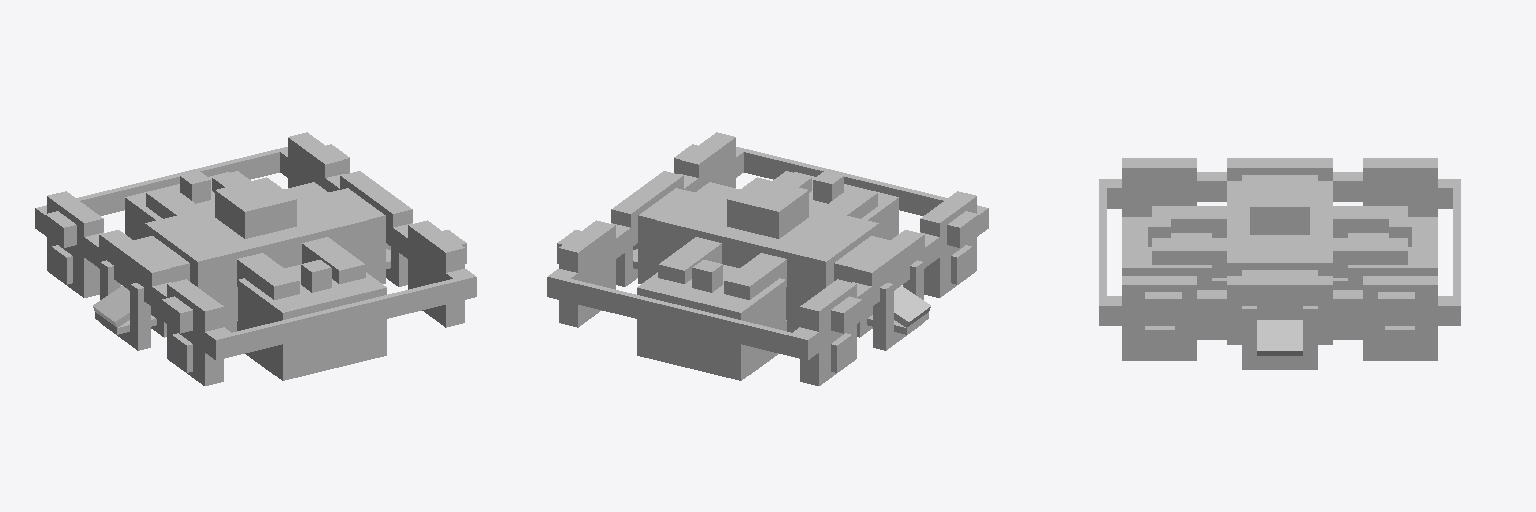
The model's file is frame.obj.
3 renders of one model, left to right at view 1: azimuth 30°, elevation 25°; view 2: azimuth 150°, elevation 25°; view 3: azimuth 270°, elevation 25°, orthographic.
Parts seen in each view (by area): view 1: cube_1, cube_11, cube_43, cube_0, cube_40, cube_28, cube_24, cube_21, cube_35, cube_22, cube_15, cube_14 (+17 smaller); view 2: cube_1, cube_3, cube_24, cube_0, cube_35, cube_21, cube_43, cube_28, cube_40, cube_22, cube_15, cube_8 (+17 smaller); view 3: cube_1, cube_35, cube_40, cube_21, cube_28, cube_32, cube_0, cube_3, cube_11, cube_36, cube_5, cube_12 (+16 smaller).
Boxes of the visible parts, x1=… form: cube_1: x1=145, y1=182, x2=366, y2=332; cube_11: x1=238, y1=265, x2=386, y2=380; cube_43: x1=233, y1=279, x2=456, y2=355; cube_0: x1=215, y1=177, x2=296, y2=238; cube_40: x1=408, y1=220, x2=464, y2=327; cube_28: x1=167, y1=279, x2=223, y2=385; cube_24: x1=76, y1=149, x2=279, y2=215; cube_21: x1=47, y1=191, x2=103, y2=297; cube_35: x1=288, y1=132, x2=344, y2=188; cube_22: x1=99, y1=230, x2=171, y2=285; cube_15: x1=329, y1=188, x2=385, y2=283; cube_14: x1=237, y1=253, x2=299, y2=299; cube_1: x1=657, y1=182, x2=878, y2=332; cube_3: x1=637, y1=265, x2=785, y2=380; cube_24: x1=567, y1=279, x2=790, y2=355; cube_0: x1=727, y1=177, x2=808, y2=238; cube_35: x1=559, y1=220, x2=615, y2=327; cube_21: x1=800, y1=279, x2=856, y2=385; cube_43: x1=744, y1=149, x2=947, y2=215; cube_28: x1=920, y1=191, x2=976, y2=297; cube_40: x1=679, y1=132, x2=735, y2=188; cube_22: x1=852, y1=230, x2=924, y2=285; cube_15: x1=638, y1=188, x2=694, y2=283; cube_8: x1=724, y1=253, x2=786, y2=299; cube_1: x1=1227, y1=181, x2=1332, y2=344; cube_35: x1=1363, y1=276, x2=1437, y2=360; cube_40: x1=1122, y1=276, x2=1196, y2=360; cube_21: x1=1363, y1=158, x2=1437, y2=216; cube_28: x1=1122, y1=158, x2=1196, y2=216; cube_32: x1=1197, y1=290, x2=1362, y2=319; cube_0: x1=1250, y1=182, x2=1309, y2=234; cube_3: x1=1348, y1=217, x2=1437, y2=335; cube_11: x1=1122, y1=217, x2=1211, y2=335; cube_36: x1=1227, y1=276, x2=1332, y2=298; cube_5: x1=1333, y1=238, x2=1407, y2=277; cube_12: x1=1152, y1=238, x2=1226, y2=277.
Bounding box in the file's own units: 2.92 × 1.12 × 3.